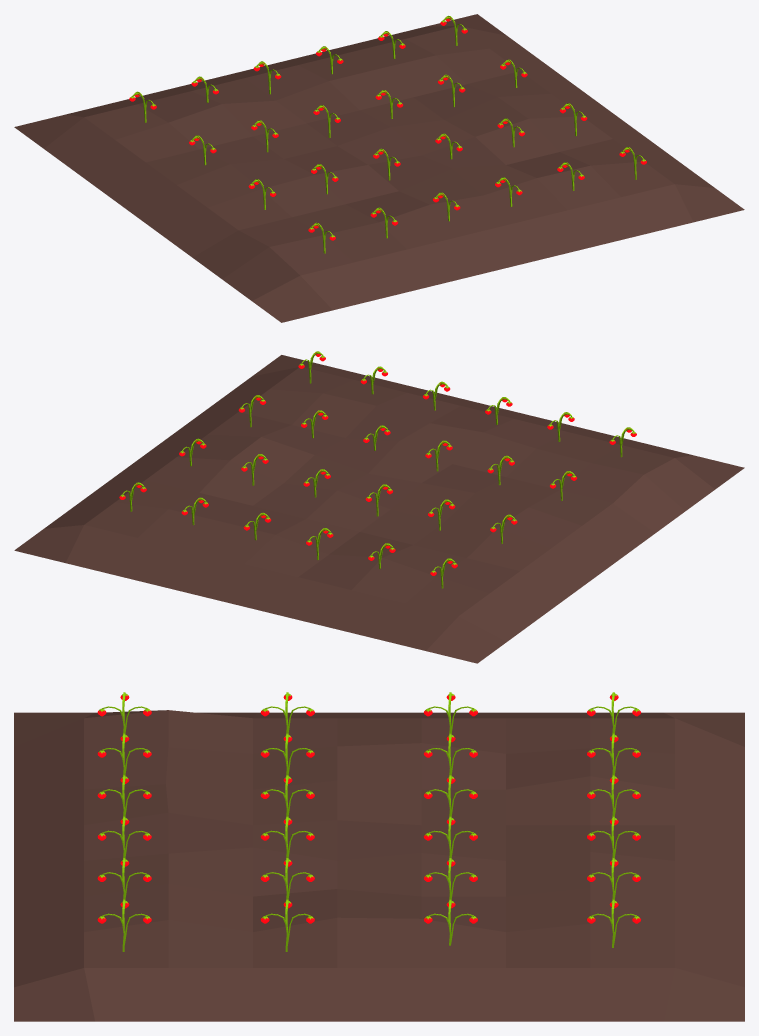
File: TomatoFarm.fbx
3 renders of one model, top to bottom at view 1: azimuth 30°, elevation 25°; view 2: azimuth 150°, elevation 25°; view 3: azimuth 270°, elevation 25°, orthographic. The views are drawn at different scales.
Parts seen in each view (by area): view 1: Plane.002; view 2: Plane.002; view 3: Plane.002.
Part boxes in pixels (left/top/right/bottom): Plane.002: left=14, top=14, right=744, bottom=322; Plane.002: left=14, top=351, right=744, bottom=663; Plane.002: left=14, top=692, right=744, bottom=1021.
Bounding box in the file's own units: 2457 × 257 × 2457.
